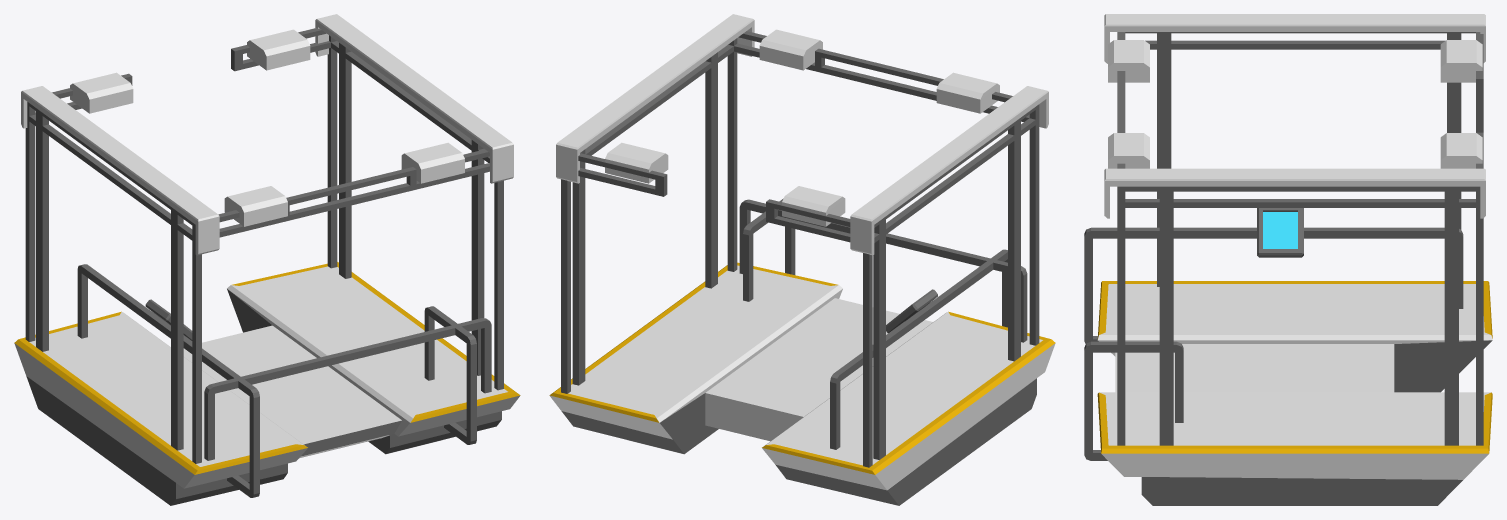
The model's file is Elevator_Main.fbx.
The picture shows the model from 3 angles, left to right: view 1: azimuth 30°, elevation 25°; view 2: azimuth 150°, elevation 25°; view 3: azimuth 270°, elevation 25°; orthographic projection. The views are drawn at different scales.
Visible parts, largest first — view 1: Plane.001; view 2: Plane.001; view 3: Plane.001.
Part boxes in pixels (bbox=[...]): Plane.001: bbox=[14, 14, 520, 505]; Plane.001: bbox=[549, 14, 1055, 505]; Plane.001: bbox=[1084, 14, 1492, 505].
Bounding box in the file's own units: 540 × 477 × 545.
